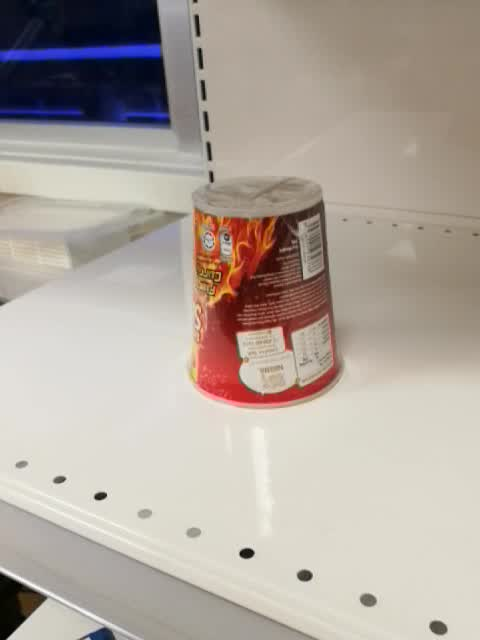maggi: (188, 174, 346, 410)
